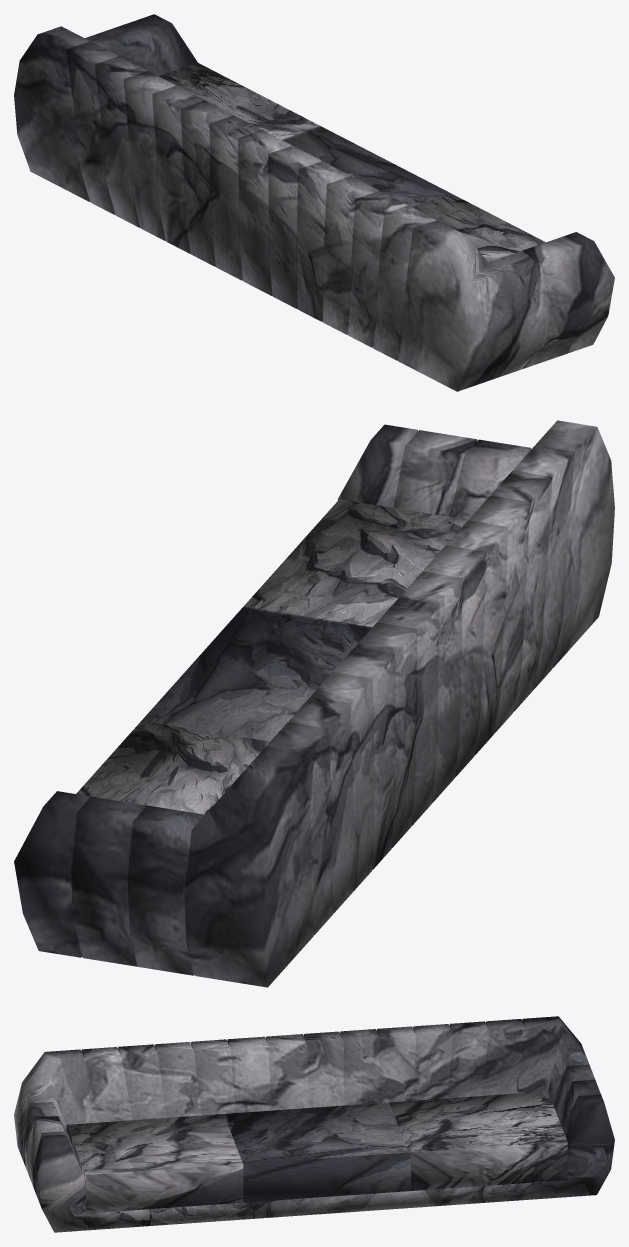
File: Sillon2.obj
3 renders of one model, top to bottom at view 1: azimuth 30°, elevation 25°; view 2: azimuth 150°, elevation 25°; view 3: azimuth 270°, elevation 25°, orthographic. The views are drawn at different scales.
Visible parts, largest first — view 1: Sillon1:Mesh; view 2: Sillon1:Mesh; view 3: Sillon1:Mesh.
Boxes of the visible parts, <box> form: Sillon1:Mesh: <box>14,14,614,391</box>; Sillon1:Mesh: <box>14,420,614,987</box>; Sillon1:Mesh: <box>14,1016,614,1232</box>.
Size of the model in its own units: 0.6466 by 0.3382 by 1.56.
4 materials, 4 textured.
